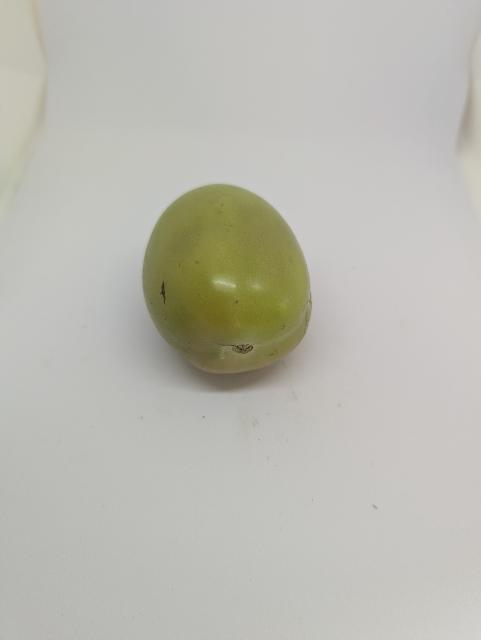green: (142, 173, 319, 387)
